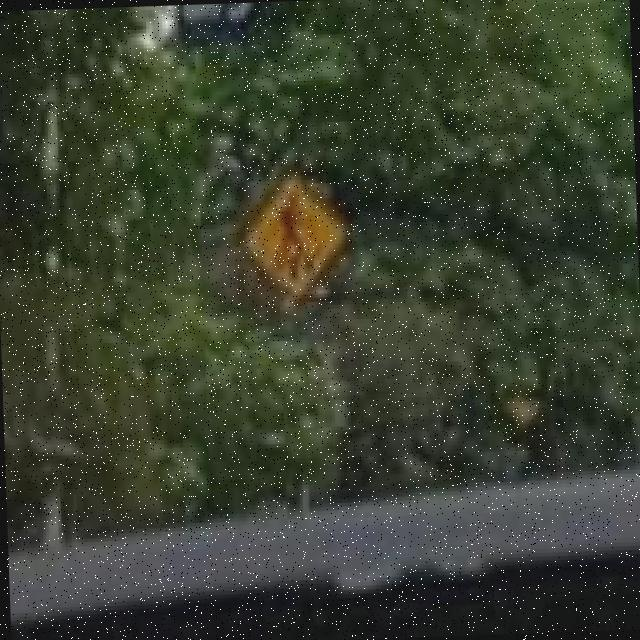Przejscie dla pieszych: (248, 174, 348, 311)
